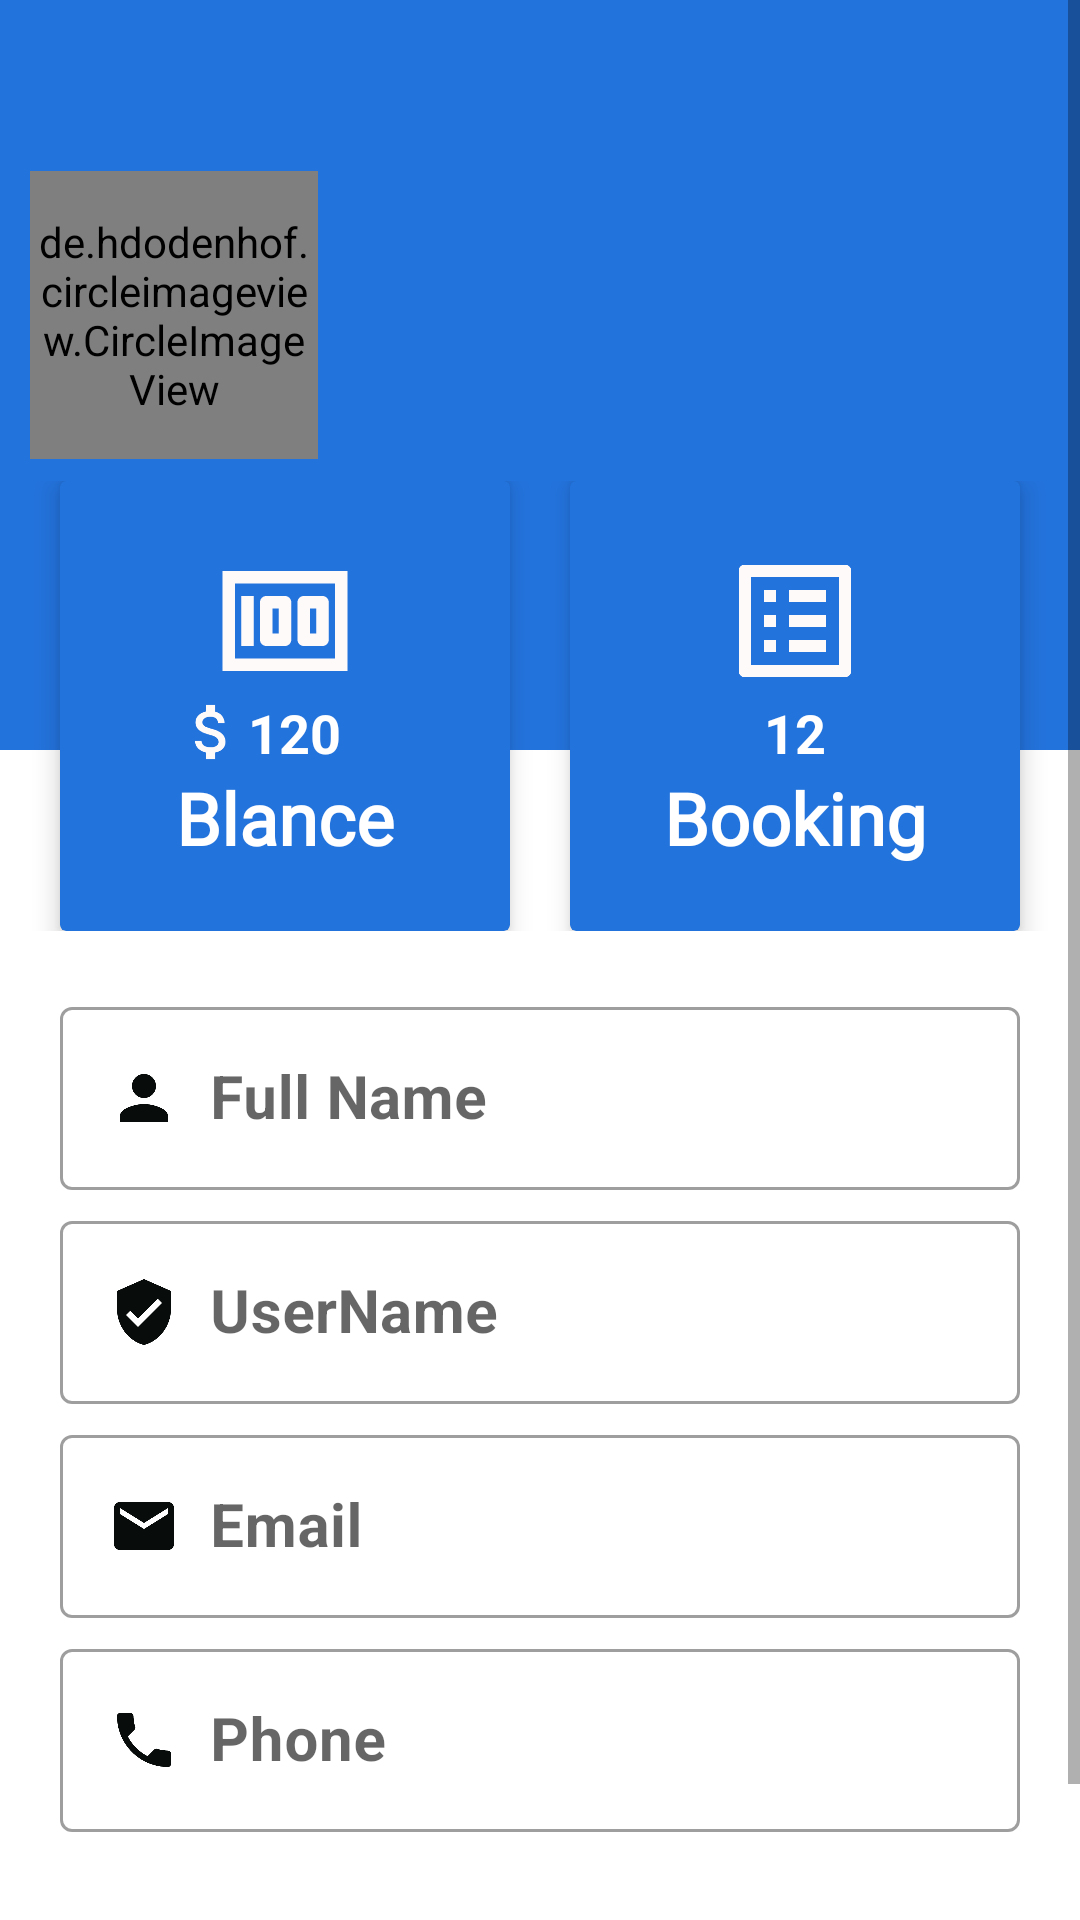

Named icons in this screenshot (1080w x 1920h) and their bounding boxes, (x1, y1, x2, y2):
list: (739, 565, 851, 677)
money: (222, 571, 348, 671)
